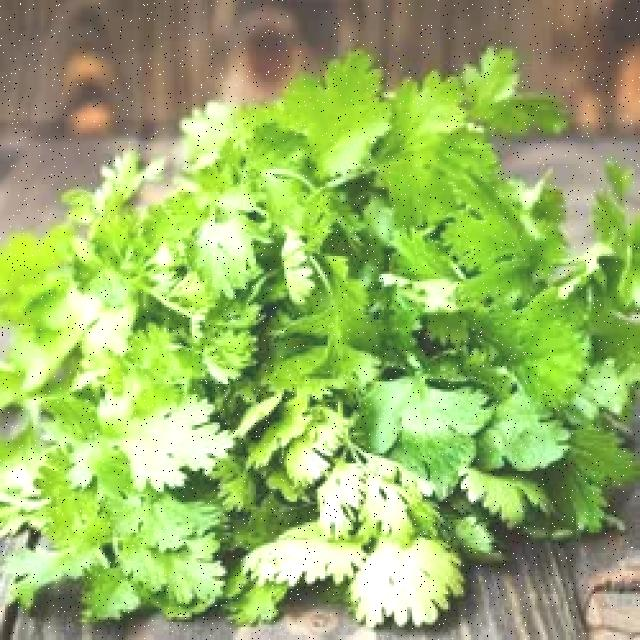Coriander: (0, 31, 622, 632)
